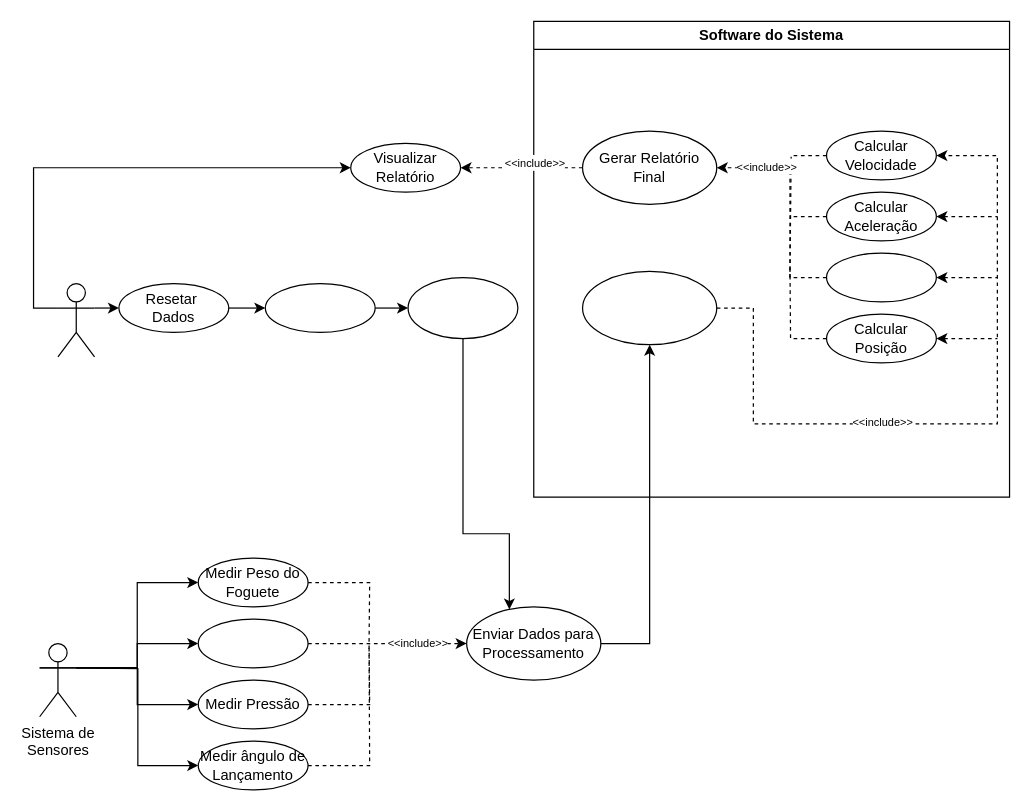
The diagram is 1031 pixels wide and 811 high, and some of its shapes have lost their labels. The shapes that lost their labels are listed below. From the top down, each one's centre as x and y in pixels, then its label:
At point (880, 277): "Calcular Altitude".
At point (76, 319): "Usuário".
At point (319, 307): "Iniciar Lançamento".
At point (462, 307): "Registrar Dados do Lançamento".
At point (649, 307): "Sistema de Processamento".
At point (252, 643): "Medir Volume d'água".
